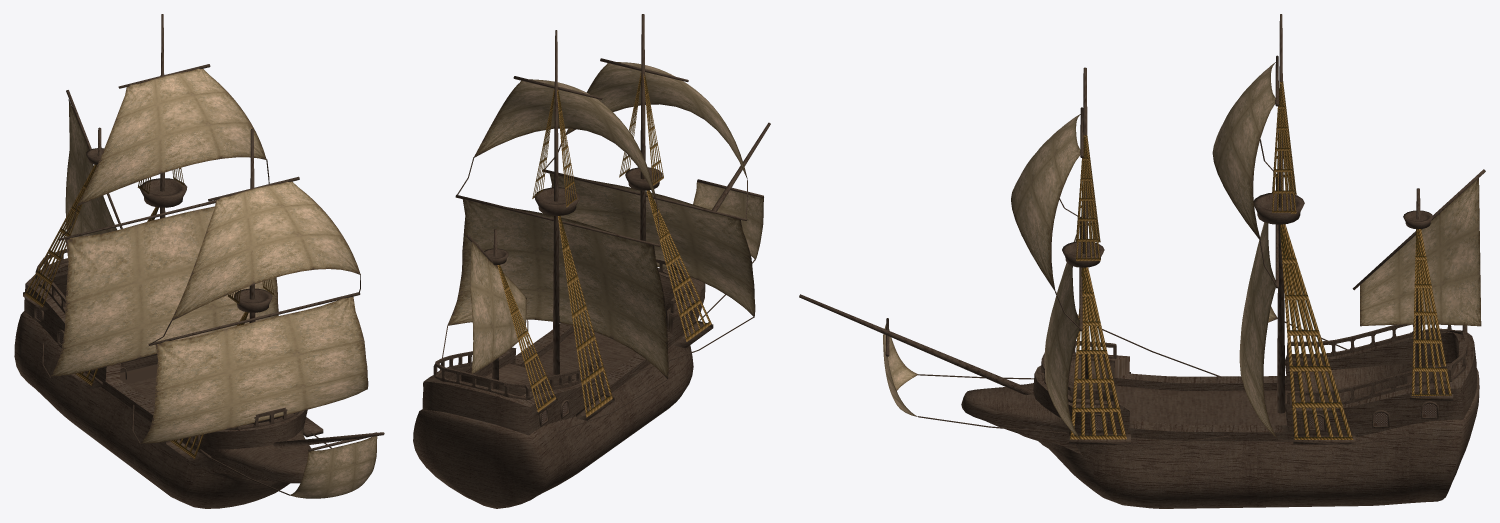
File: skidbladnir.glb
3 renders of one model, left to right at view 1: azimuth 30°, elevation 25°; view 2: azimuth 150°, elevation 25°; view 3: azimuth 270°, elevation 25°, orthographic. The views are drawn at different scales.
Parts seen in each view (by area): view 1: Plane.004_4, Cube_0, Plane.005_5, Plane.006_2, Plane.007_3, Plane.008_6, Plane.009_7, Plane.013_44, Cylinder.001_8, Cube.008_16, Cylinder.002_39, Cube.004_12 (+4 smaller); view 2: Cube_0, Plane.005_5, Plane.004_4, Plane.007_3, Plane.009_7, Plane.006_2, Plane.001_43, Cube.015_23, Plane.008_6, Plane.003_41, Cube.030_31, Cube.002_10 (+13 smaller); view 3: Cube_0, Plane.009_7, Plane.006_2, Plane.027_42, Plane.007_3, Cube.015_23, Plane.005_5, Plane.002_1, Plane.004_4, Plane.012_45, Cube.030_31, Cube.012_21 (+7 smaller).
Part boxes in pixels (left/top/right/bottom): Plane.004_4: left=140, top=297, right=368, bottom=444; Cube_0: left=14, top=258, right=311, bottom=508; Plane.005_5: left=50, top=206, right=278, bottom=377; Plane.006_2: left=171, top=181, right=360, bottom=320; Plane.007_3: left=77, top=68, right=266, bottom=205; Plane.008_6: left=289, top=436, right=377, bottom=498; Plane.009_7: left=65, top=99, right=116, bottom=237; Plane.013_44: left=24, top=164, right=96, bottom=307; Cylinder.001_8: left=140, top=178, right=187, bottom=207; Cube.008_16: left=148, top=292, right=360, bottom=345; Cylinder.002_39: left=234, top=288, right=272, bottom=312; Cube.004_12: left=273, top=432, right=384, bottom=448; Cube_0: left=413, top=268, right=705, bottom=508; Plane.005_5: left=447, top=199, right=668, bottom=378; Plane.004_4: left=549, top=173, right=755, bottom=317; Plane.007_3: left=474, top=79, right=656, bottom=201; Plane.009_7: left=470, top=240, right=526, bottom=373; Plane.006_2: left=565, top=62, right=747, bottom=179; Plane.001_43: left=557, top=215, right=612, bottom=417; Cube.015_23: left=527, top=327, right=636, bottom=379; Plane.008_6: left=693, top=182, right=763, bottom=259; Plane.003_41: left=646, top=190, right=711, bottom=341; Cube.030_31: left=433, top=351, right=599, bottom=400; Cube.002_10: left=552, top=30, right=559, bottom=374; Cube_0: left=961, top=330, right=1479, bottom=508; Plane.009_7: left=1360, top=178, right=1481, bottom=326; Plane.006_2: left=1011, top=114, right=1080, bottom=291; Plane.027_42: left=1280, top=224, right=1353, bottom=439; Plane.007_3: left=1212, top=62, right=1275, bottom=240; Cube.015_23: left=1115, top=385, right=1287, bottom=425; Plane.005_5: left=1239, top=222, right=1277, bottom=439; Plane.002_1: left=1070, top=267, right=1126, bottom=439; Plane.004_4: left=1044, top=235, right=1081, bottom=440; Plane.012_45: left=1411, top=229, right=1451, bottom=398; Cube.030_31: left=1287, top=324, right=1467, bottom=407; Cube.012_21: left=1300, top=363, right=1407, bottom=402.
Bounding box in the file's own units: 12.18 × 22.63 × 29.04.
Materials: 4 (4 with a texture image).
